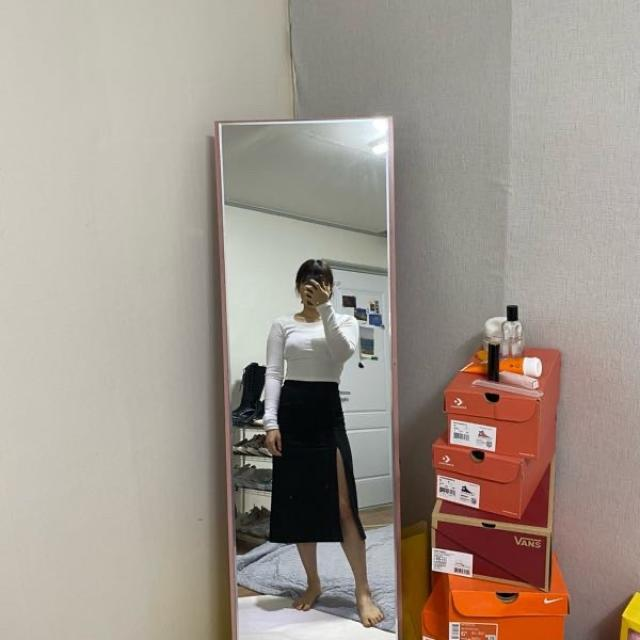longsleeve: (264, 302, 362, 434)
skirt: (266, 376, 366, 546)
